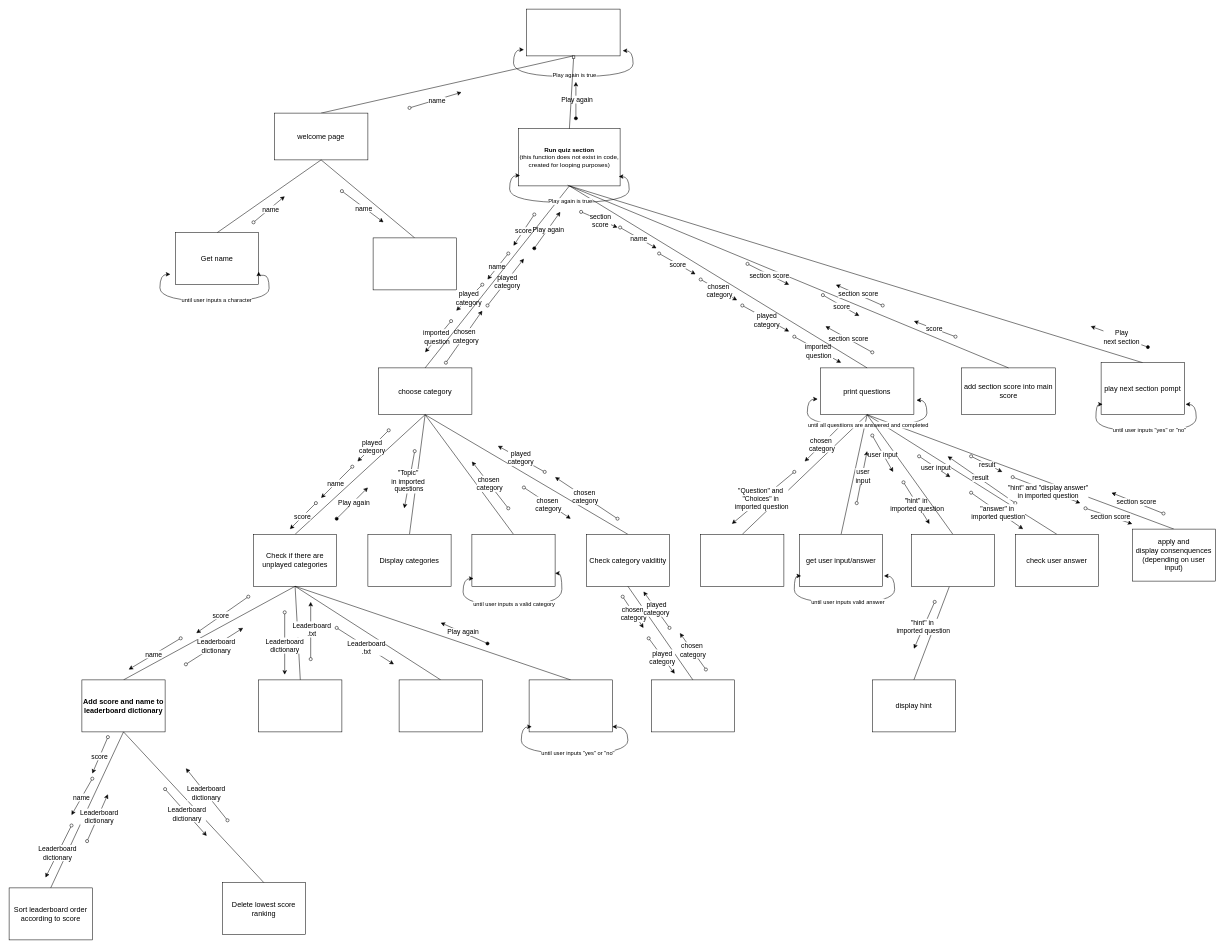
This 1225x949 diagram has some shape labels left out. Here are the shapes that lost their labels. From the top down, the centre of each, then its label:
[573,32]: MAIN
[414,263]: Display welcome banner
[513,560]: Get user input for category
[742,560]: Display questions and choices based on chosen category
[952,560]: check if user input is hint
[300,705]: saves leaderboard dictionary into txt file
[440,705]: Display leaderboard.txt
[570,705]: play again prompt
[692,705]: Add chosen category into played category
